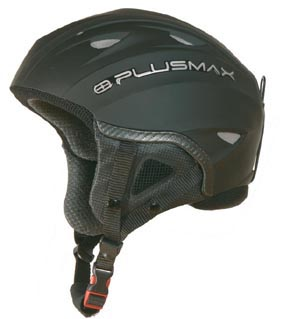helmet: (22, 20, 267, 199)
